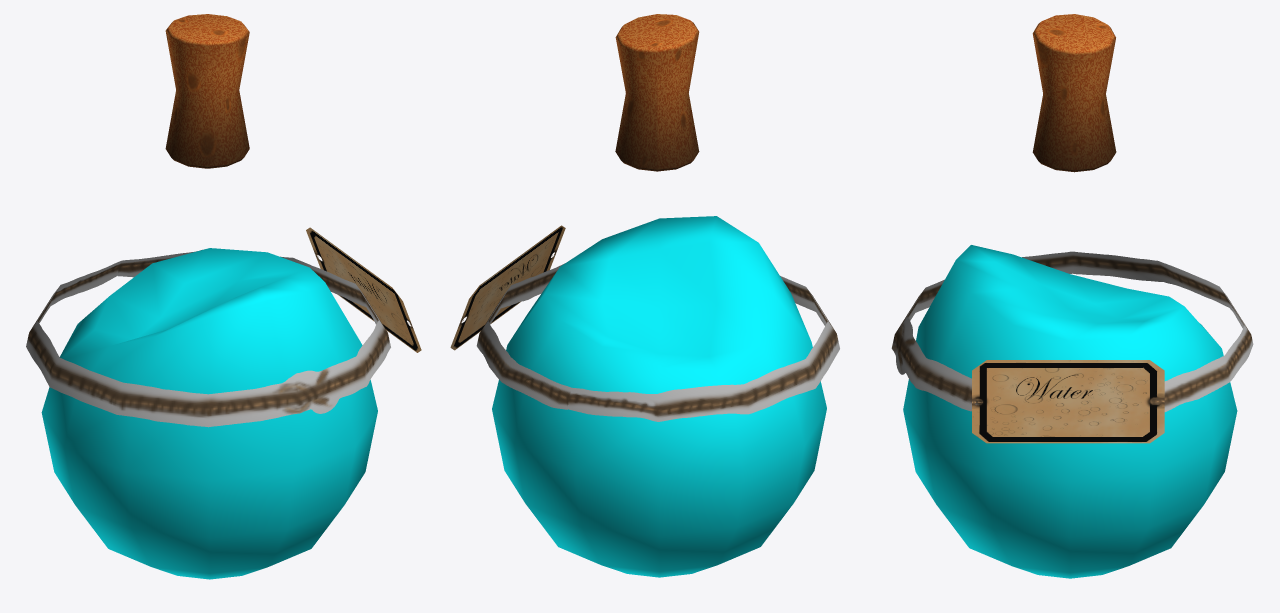
Rendered from Potion_Bottle.fbx.
The picture shows the model from 3 angles, left to right: view 1: azimuth 30°, elevation 25°; view 2: azimuth 150°, elevation 25°; view 3: azimuth 270°, elevation 25°; orthographic projection.
Visible parts, largest first — view 1: pSphere3; view 2: pSphere3; view 3: pSphere3.
Boxes of the visible parts, x1,y1,x2,y2 form: pSphere3: [26, 14, 421, 579]; pSphere3: [450, 14, 839, 577]; pSphere3: [891, 14, 1253, 578].
Size of the model in its own units: 2 by 3.09 by 2.
Materials: 1 (1 with a texture image).
